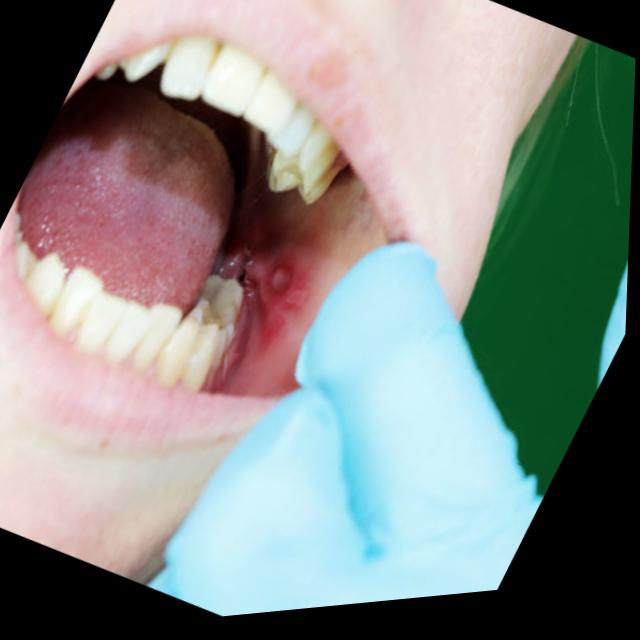ulcer: (271, 267, 287, 288)
